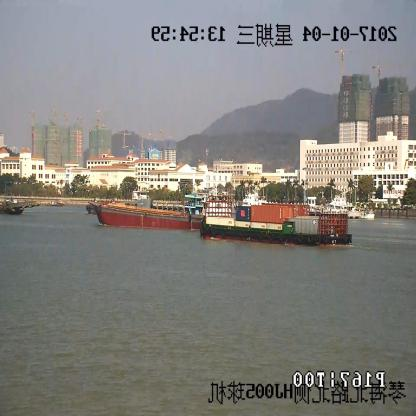Container Ship: (200, 196, 352, 245)
